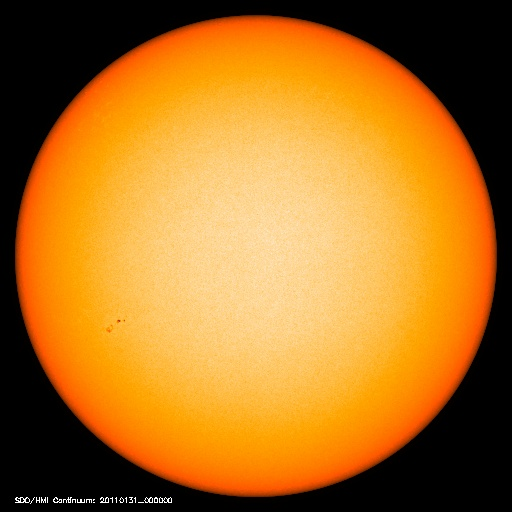sunspot: (96, 308, 136, 339)
